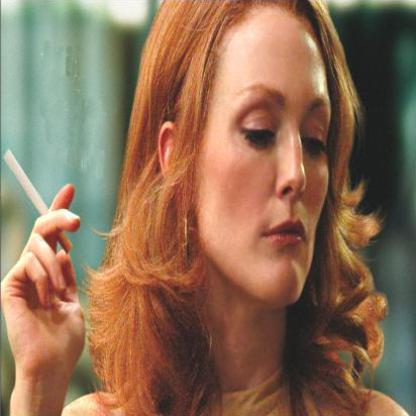cigarette: (3, 144, 74, 258)
person: (122, 0, 342, 415)
